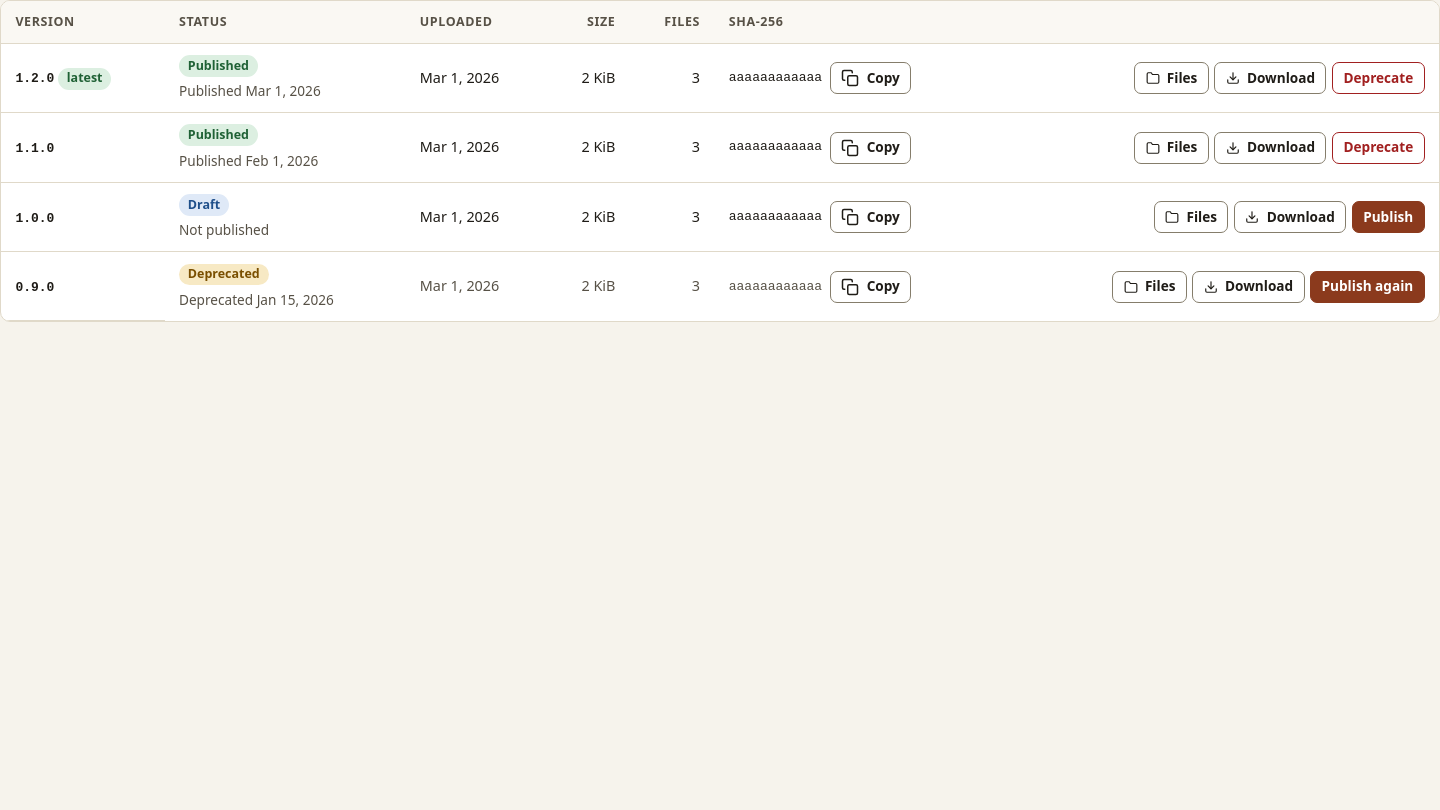
Test: VersionsTab: publishing › asks for confirmation before publishing a draft
Click the button named "Publish version 1.0.0". click: click(1388, 217)
box: [1352, 201, 1425, 233]
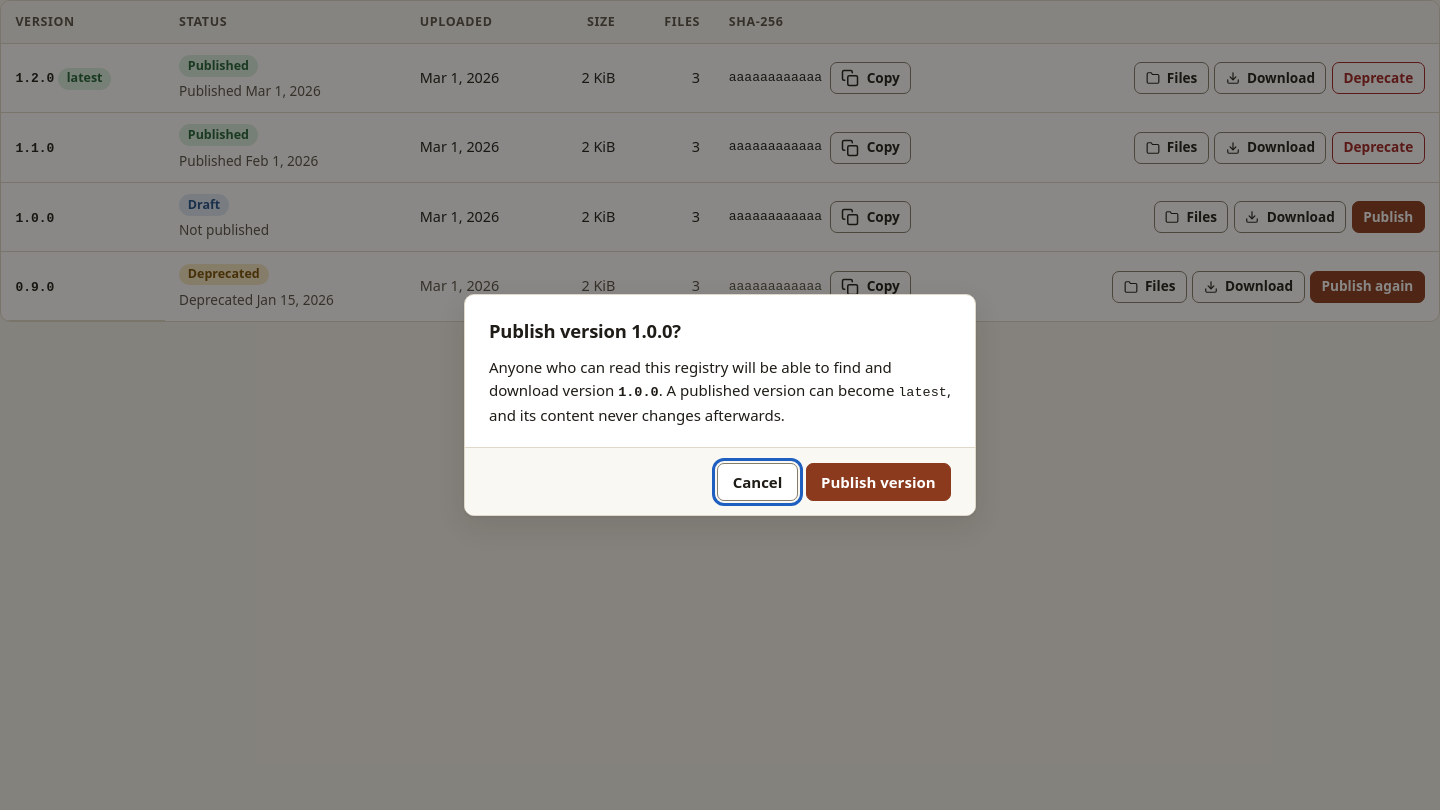
Click the button "Publish version". click: click(878, 482)
box: [806, 462, 951, 500]
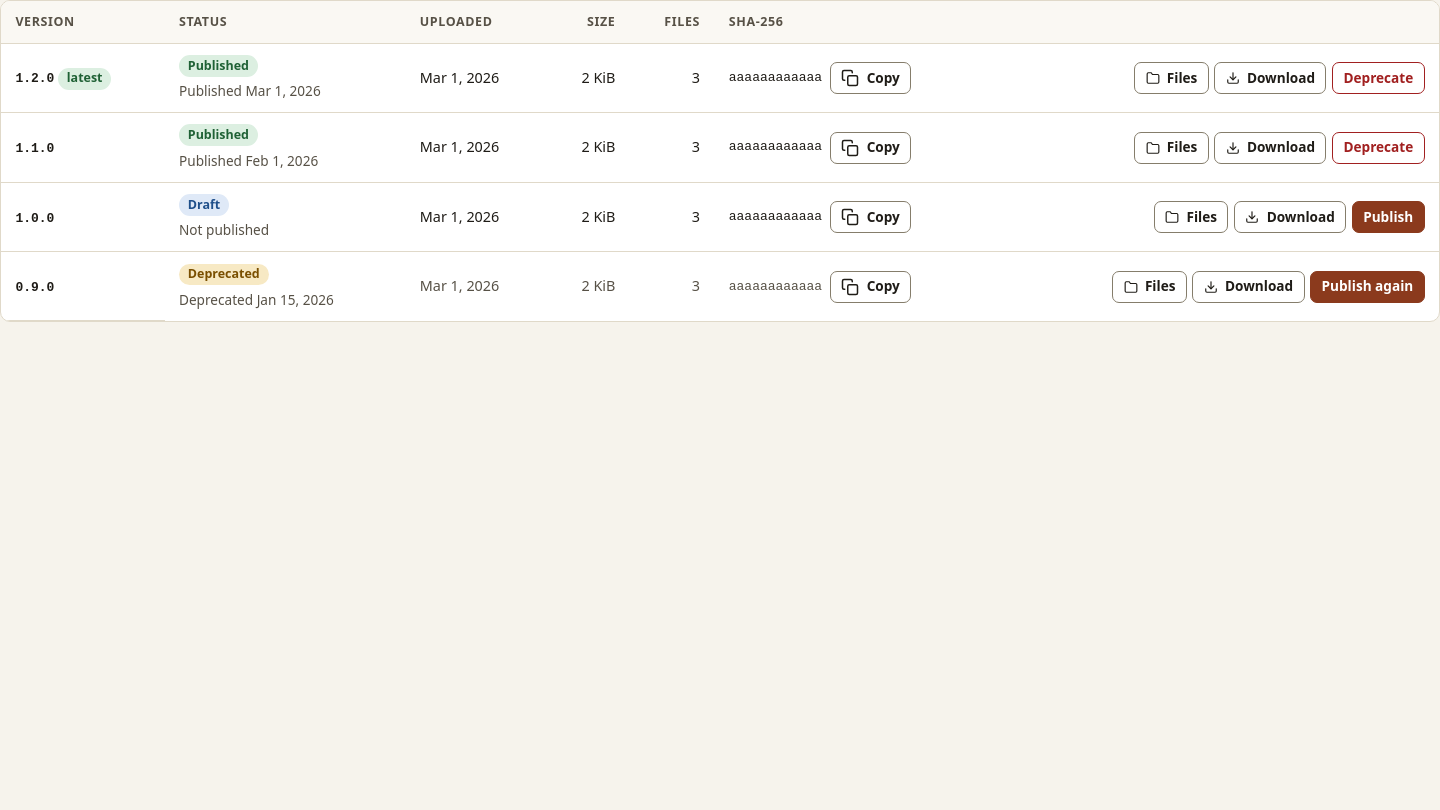
Now the dialog is gone
